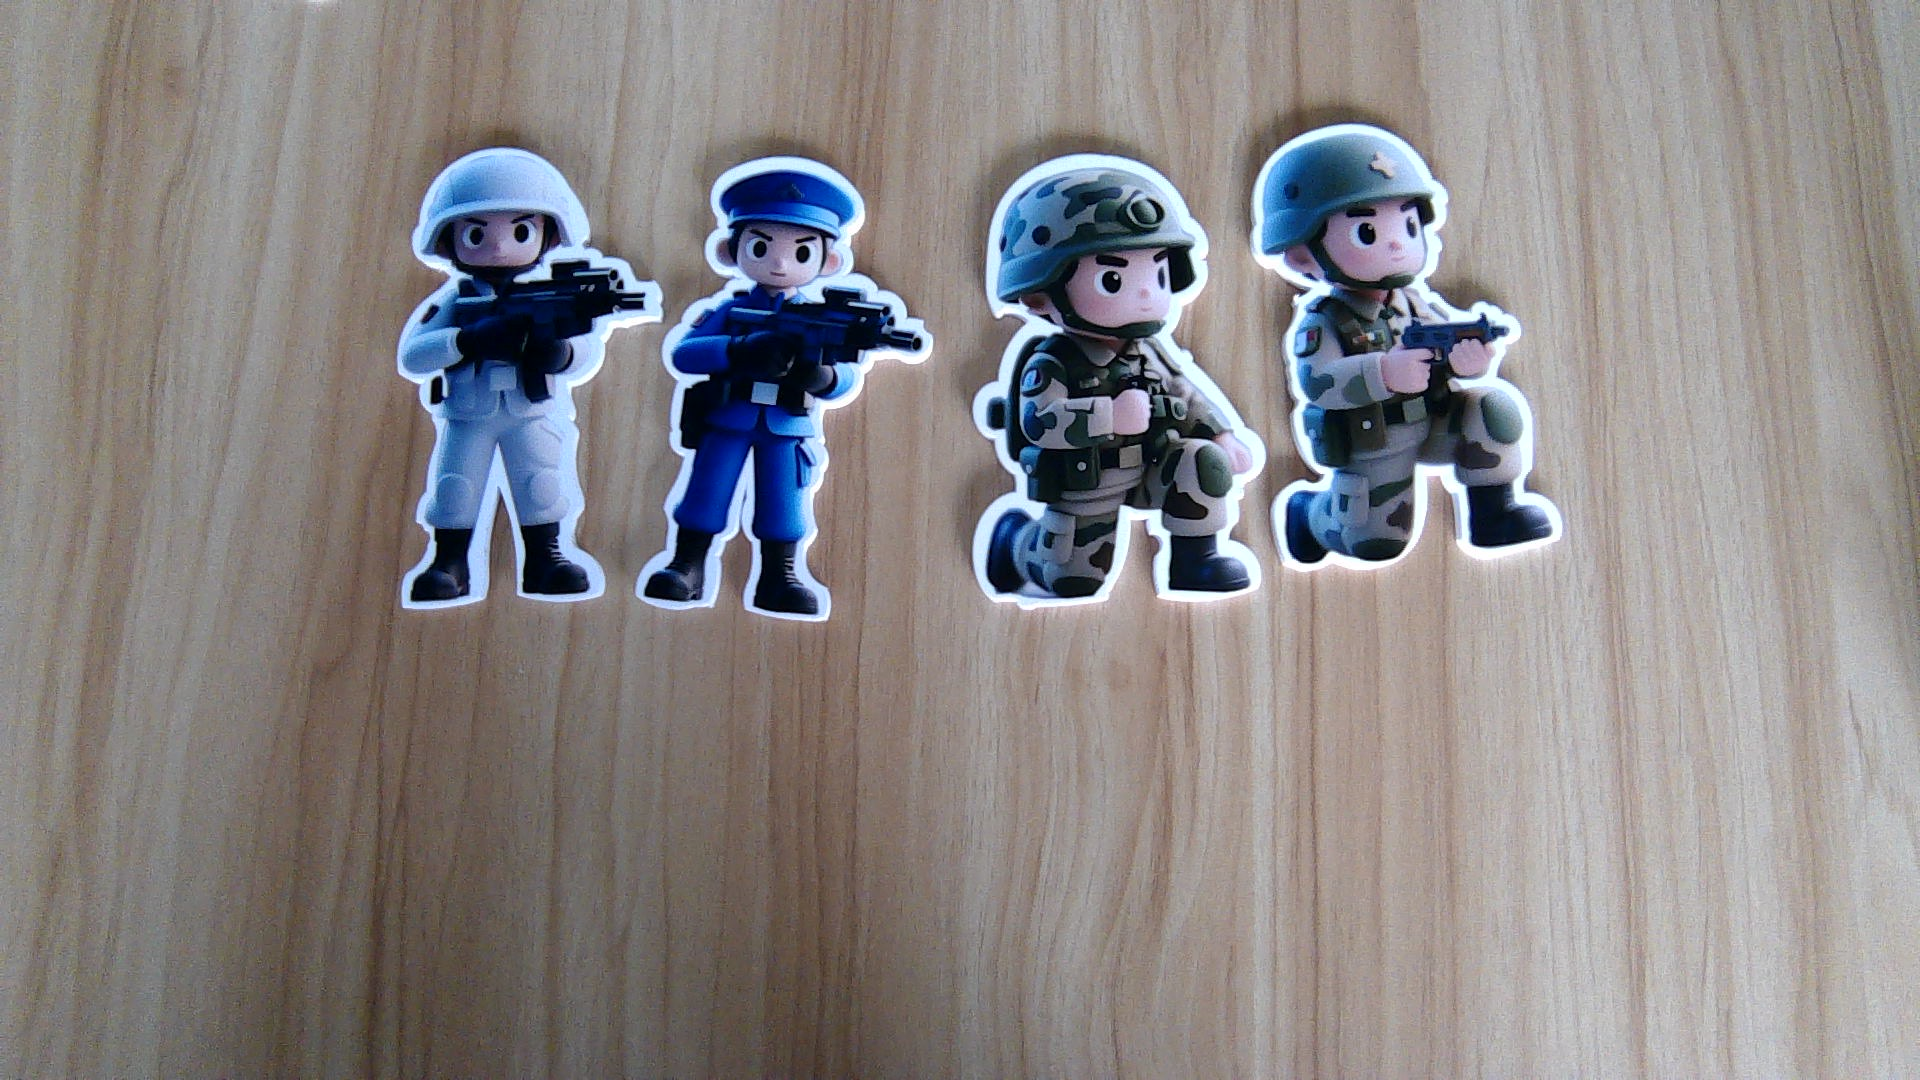人质: (389, 270, 650, 607)
友军: (963, 327, 1262, 612), (1269, 297, 1571, 576)
敌人2: (641, 282, 926, 615)
